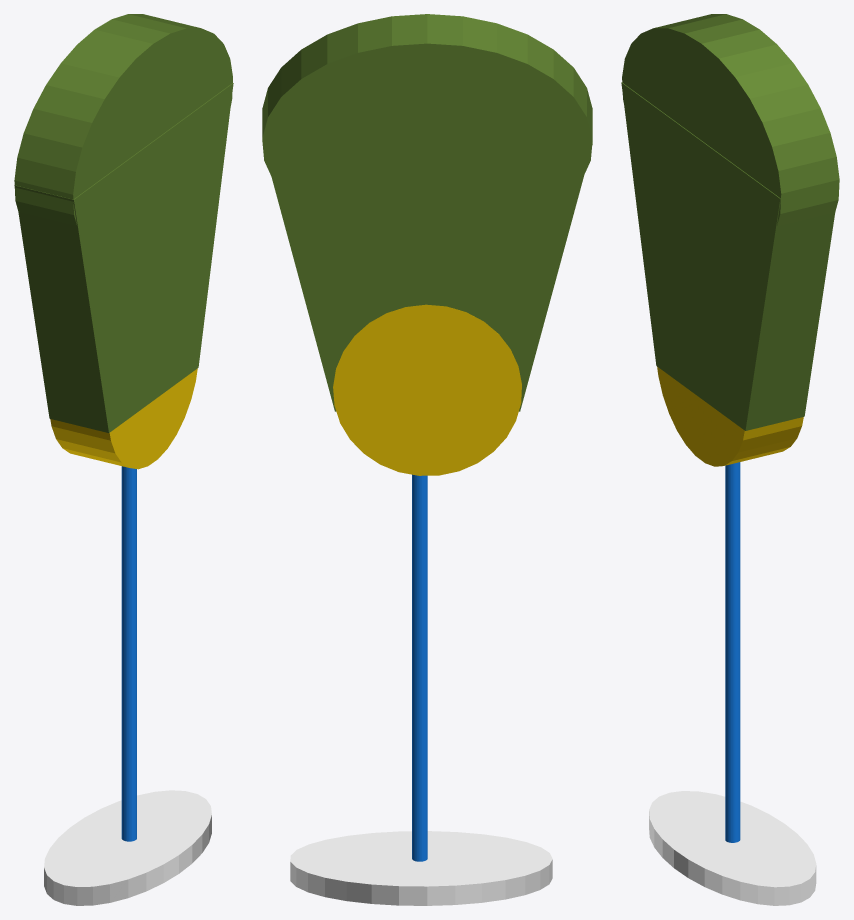
The model's file is Statue04.fbx.
3 views of the same model, side by side, from view 1: azimuth 30°, elevation 25°; view 2: azimuth 150°, elevation 25°; view 3: azimuth 270°, elevation 25° (orthographic). The views are drawn at different scales.
Parts seen in each view (by area): view 1: stupeni Mesh (1), green Mesh (1), blue Mesh (1), yellow Mesh (1); view 2: stupeni Mesh (1), yellow Mesh (1), green Mesh (1), blue Mesh (1); view 3: stupeni Mesh (1), green Mesh (1), blue Mesh (1), yellow Mesh (1).
Part boxes in pixels (x1=…): stupeni Mesh (1): x1=14, y1=14, x2=233, y2=432; green Mesh (1): x1=44, y1=790, x2=211, y2=905; blue Mesh (1): x1=121, y1=466, x2=136, y2=841; yellow Mesh (1): x1=50, y1=368, x2=197, y2=469; stupeni Mesh (1): x1=262, y1=14, x2=592, y2=411; yellow Mesh (1): x1=333, y1=304, x2=521, y2=475; green Mesh (1): x1=290, y1=831, x2=552, y2=905; blue Mesh (1): x1=412, y1=474, x2=427, y2=861; stupeni Mesh (1): x1=621, y1=14, x2=839, y2=430; green Mesh (1): x1=649, y1=791, x2=816, y2=905; blue Mesh (1): x1=725, y1=462, x2=740, y2=842; yellow Mesh (1): x1=657, y1=366, x2=803, y2=466.
Bounding box in the file's own units: 3.06 × 8.94 × 2.16.
